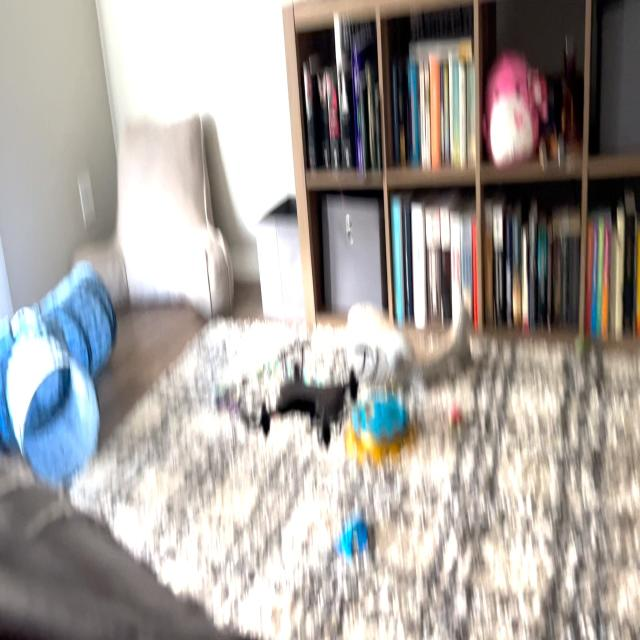drone: (226, 322, 384, 464)
